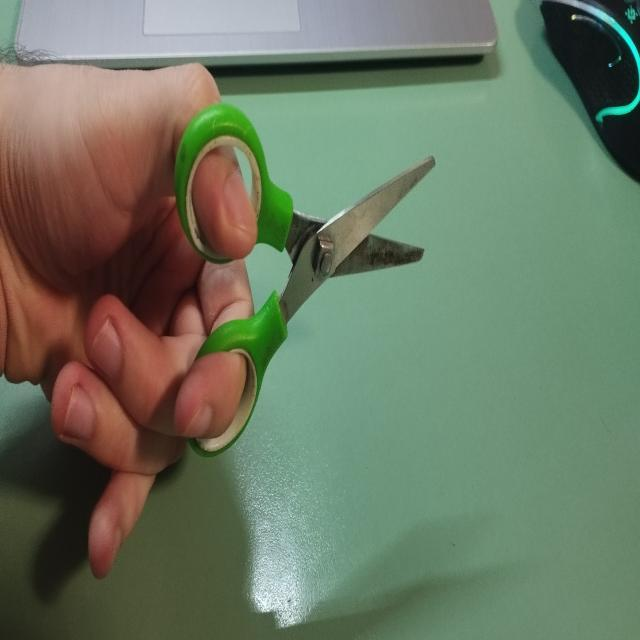tesoura: (172, 96, 442, 465)
